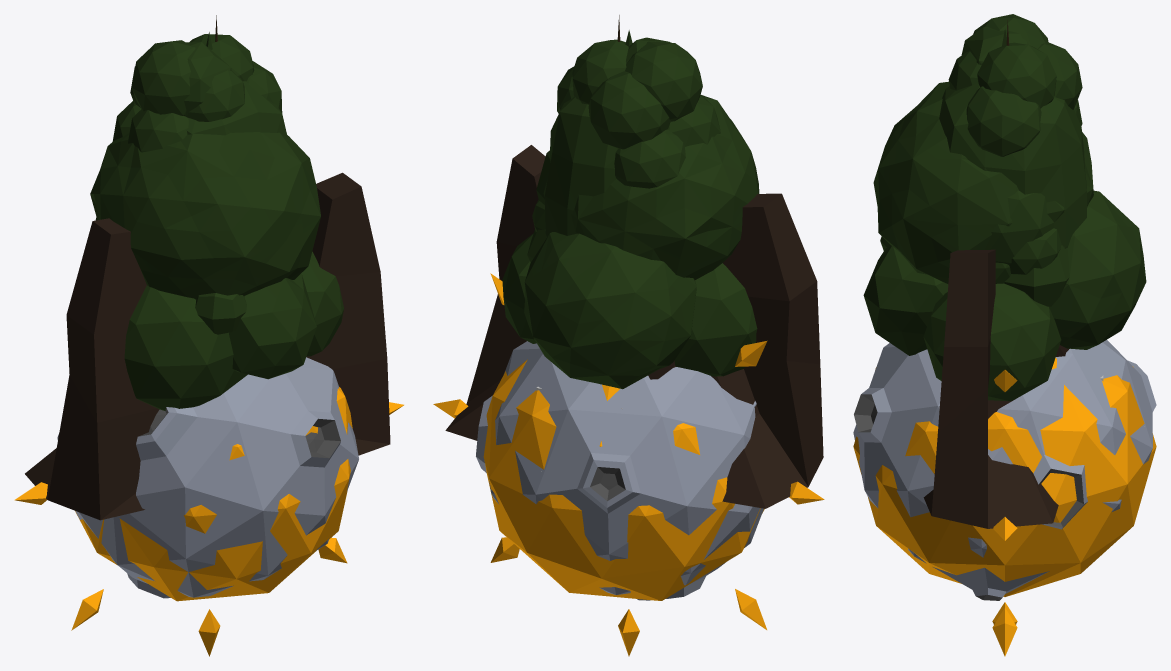
3 views of the same model, side by side, from view 1: azimuth 30°, elevation 25°; view 2: azimuth 150°, elevation 25°; view 3: azimuth 270°, elevation 25° (orthographic).
Visible parts, largest first — view 1: tree12, cave, moon, sun, tree17, tree10, tree18; view 2: tree12, moon, cave, sun, tree17, tree10, tree18; view 3: tree12, sun, moon, cave, tree17, tree10, tree18.
Part boxes in pixels (x1,y1,x2,y2): tree12: [90, 132, 344, 410]; cave: [25, 172, 390, 520]; moon: [57, 357, 358, 598]; sun: [14, 387, 403, 656]; tree17: [112, 34, 282, 152]; tree10: [187, 81, 287, 138]; tree18: [184, 42, 250, 116]; tree12: [502, 95, 759, 389]; moon: [476, 341, 763, 600]; cave: [445, 145, 823, 508]; sun: [433, 273, 824, 656]; tree17: [532, 39, 720, 231]; tree10: [544, 97, 617, 236]; tree18: [536, 37, 670, 204]; tree12: [863, 81, 1146, 401]; sun: [853, 357, 1156, 656]; moon: [853, 340, 1156, 600]; cave: [923, 249, 1068, 528]; tree17: [948, 14, 1082, 283]; tree10: [939, 82, 1086, 248]; tree18: [961, 26, 1054, 265].
Bounding box in the file's own units: 2906 × 4549 × 1969.
